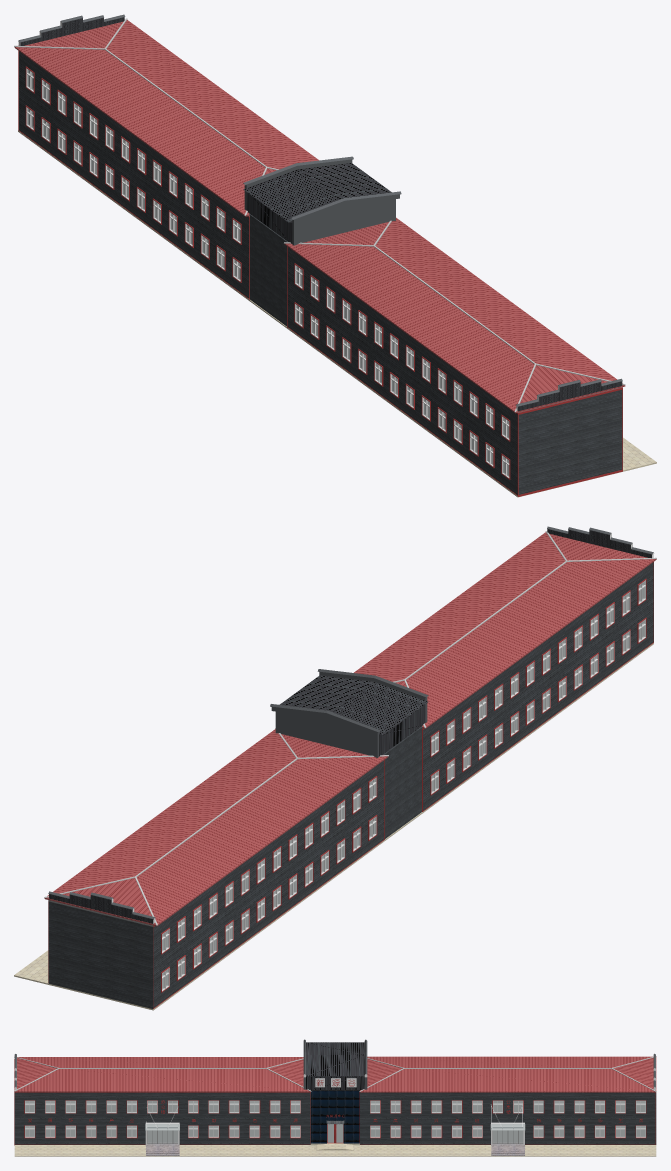
3 views of the same model, one above another, from view 1: azimuth 30°, elevation 25°; view 2: azimuth 150°, elevation 25°; view 3: azimuth 270°, elevation 25° (orthographic). The views are drawn at different scales.
Visible parts, largest first — view 1: Box034, Box022, 对象728, 对象727, 对象026, 对象355, 对象356, Box037, Box035, Box021, 图形021, 对象351 (+1 smaller); view 2: Box034, Box022, 对象728, 对象727, 对象026, 对象355, 对象356, Box037, Box021, Box035, 图形021, 对象351 (+1 smaller); view 3: Box022, Box034, 对象026, Box021, 对象728, 对象727, Box053, 对象765, 对象355, Box049, 图形021, 对象770 (+8 smaller).
Part boxes in pixels (x1,y1,x2,y2): Box034: (14,20,625,413); Box022: (19,51,622,494); 对象728: (26,68,509,478); 对象727: (18,51,622,496); 对象026: (27,69,509,476); 对象355: (243,163,391,222); 对象356: (244,160,399,245); Box037: (249,214,288,326); Box035: (20,17,622,411); Box021: (18,130,656,497); 图形021: (14,18,625,412); 对象351: (18,14,622,406); Box034: (44,532,656,926); Box022: (48,562,653,1008); 对象728: (162,580,645,991); 对象727: (48,562,653,1008); 对象026: (162,581,644,989); 对象355: (279,675,428,735); 对象356: (271,672,427,757); Box037: (383,726,422,838); Box021: (14,643,653,1010); Box035: (49,529,651,923); 图形021: (44,531,656,925); 对象351: (48,526,653,919); Box022: (14,1092,656,1144); Box034: (15,1056,656,1092); 对象026: (25,1101,645,1143); Box021: (14,1143,656,1156); 对象728: (25,1100,645,1137); 对象727: (14,1059,655,1145); Box053: (25,1124,645,1142); 对象765: (311,1090,359,1143); 对象355: (306,1042,364,1076); Box049: (25,1101,645,1111); 图形021: (14,1056,656,1091); 对象770: (146,1142,524,1155).
Size of the model in its own units: 60.66 by 48.93 by 366.
19 materials, 9 textured.
